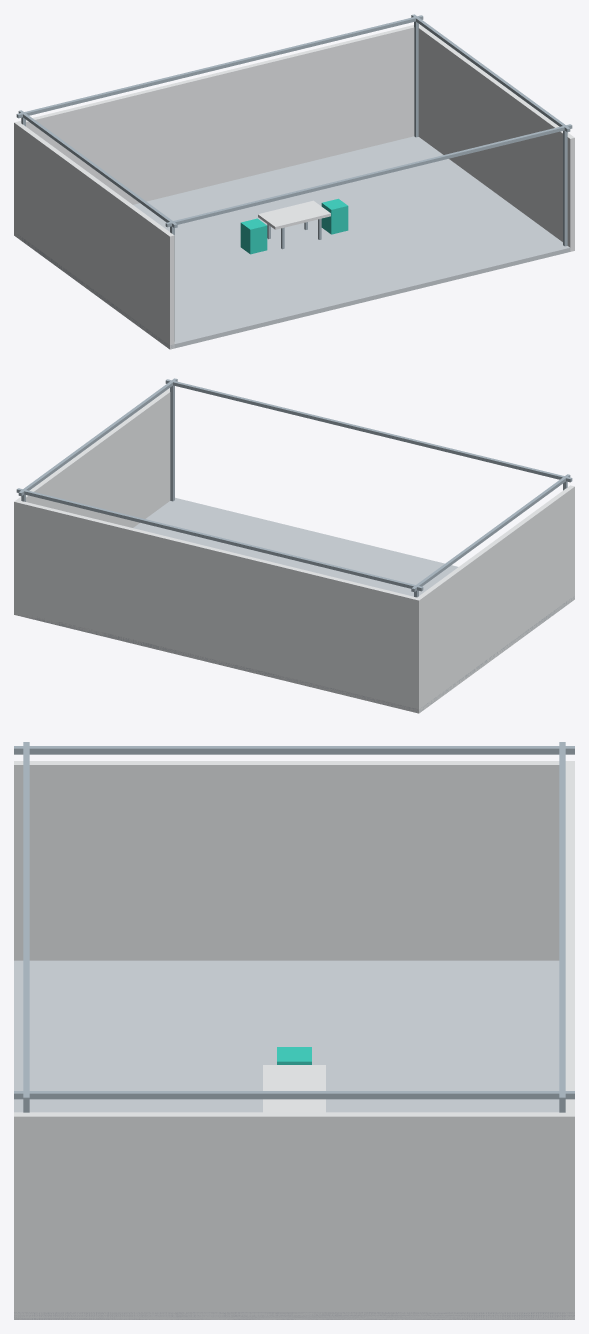
3 renders of one model, top to bottom at view 1: azimuth 30°, elevation 25°; view 2: azimuth 150°, elevation 25°; view 3: azimuth 270°, elevation 25°, orthographic. The views are drawn at different scales.
Parts seen in each view (by area): view 1: Exhibition Booth Concept; view 2: Exhibition Booth Concept; view 3: Exhibition Booth Concept.
Boxes of the visible parts, x1,y1,x2,y2 form: Exhibition Booth Concept: (14,14,574,349); Exhibition Booth Concept: (14,378,574,713); Exhibition Booth Concept: (14,742,574,1319).
Size of the model in its own units: 12 by 3.49 by 8.
